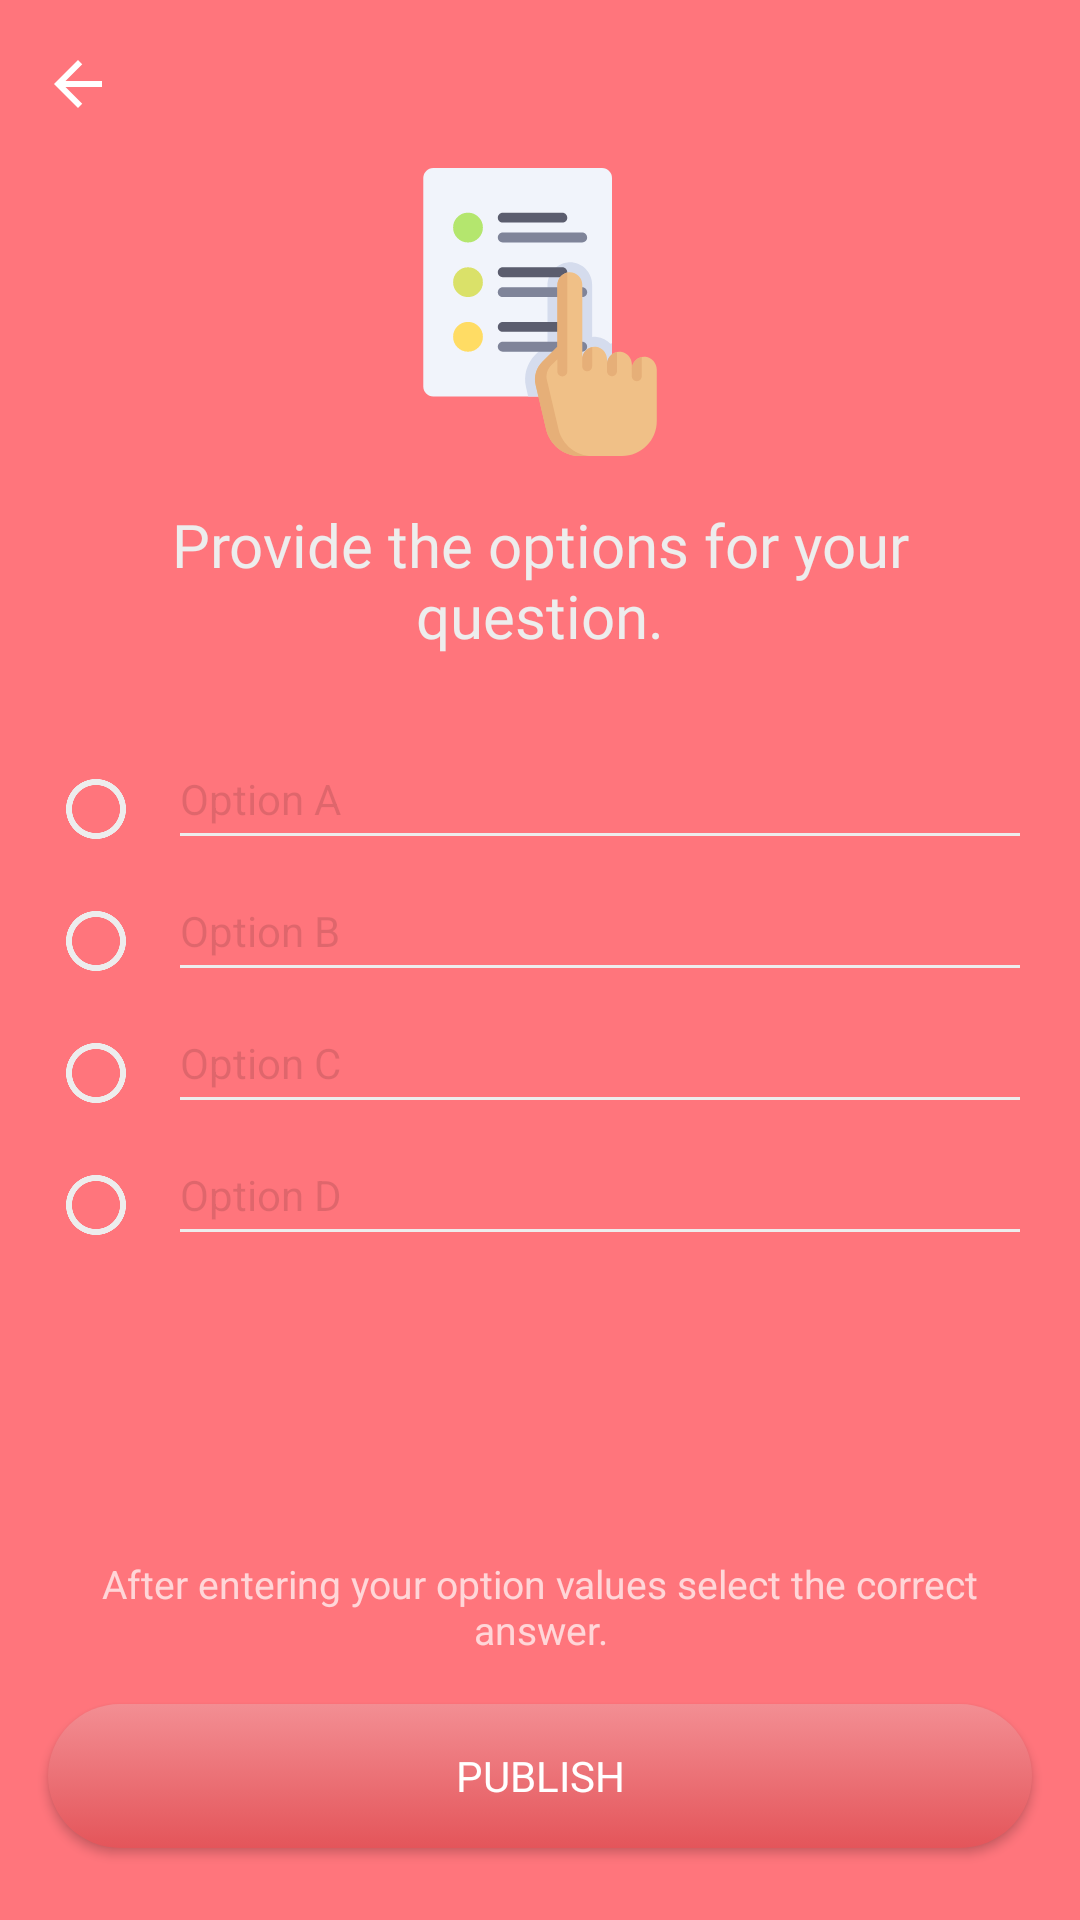

Named icons in this screenshot (1080×1920) and their bounding boxes, {"x1": x1, "y1": y1, "x2": x2, "y2": y2}:
arrow back: {"x1": 54, "y1": 60, "x2": 102, "y2": 108}
choices: {"x1": 423, "y1": 168, "x2": 657, "y2": 456}
